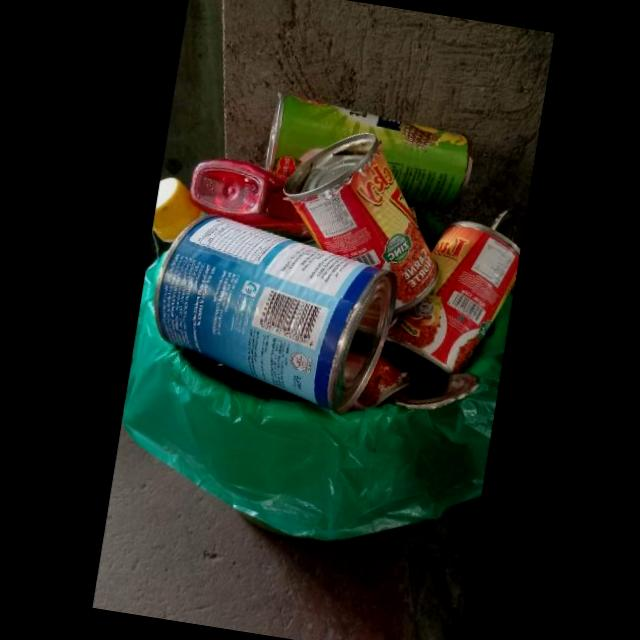nhom: (156, 214, 398, 415), (284, 132, 439, 314), (263, 94, 473, 213), (383, 219, 520, 371)
